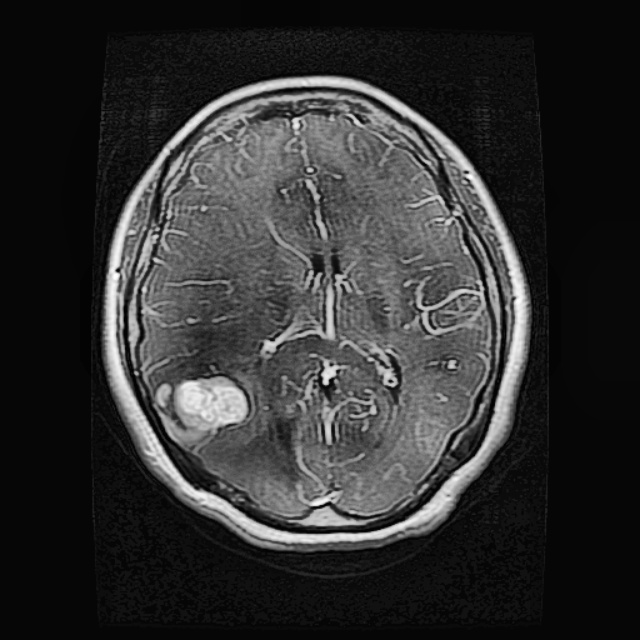Pituitary: (153, 373, 249, 445)
